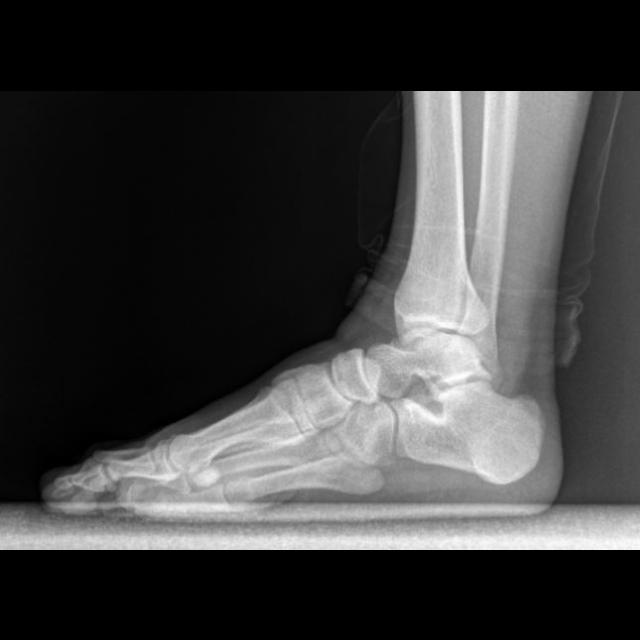a: (390, 380, 542, 483)
b: (331, 348, 380, 403)
c: (169, 384, 311, 490)
